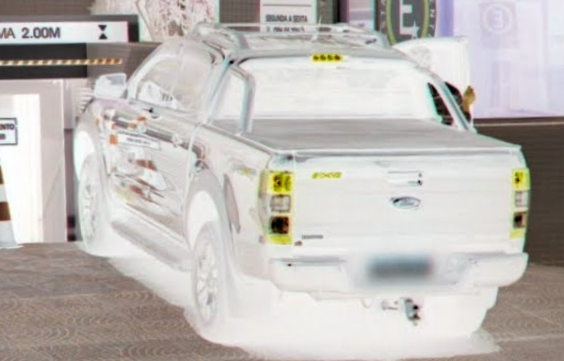car: (59, 14, 537, 357)
